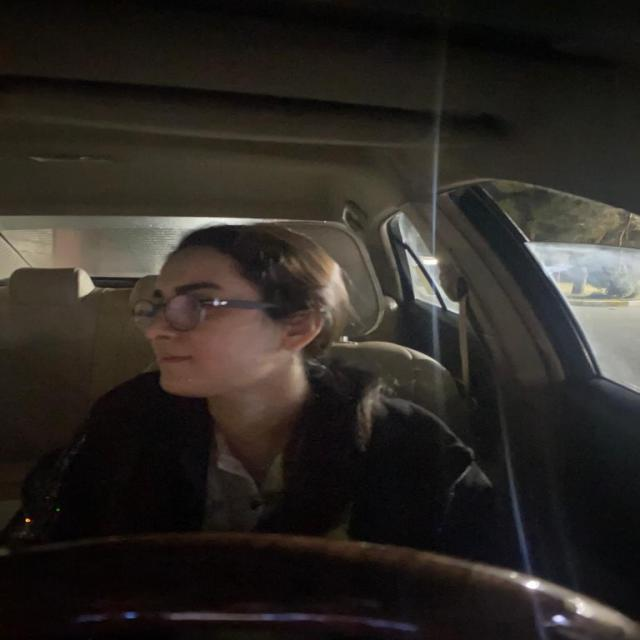person: (125, 225, 332, 393)
